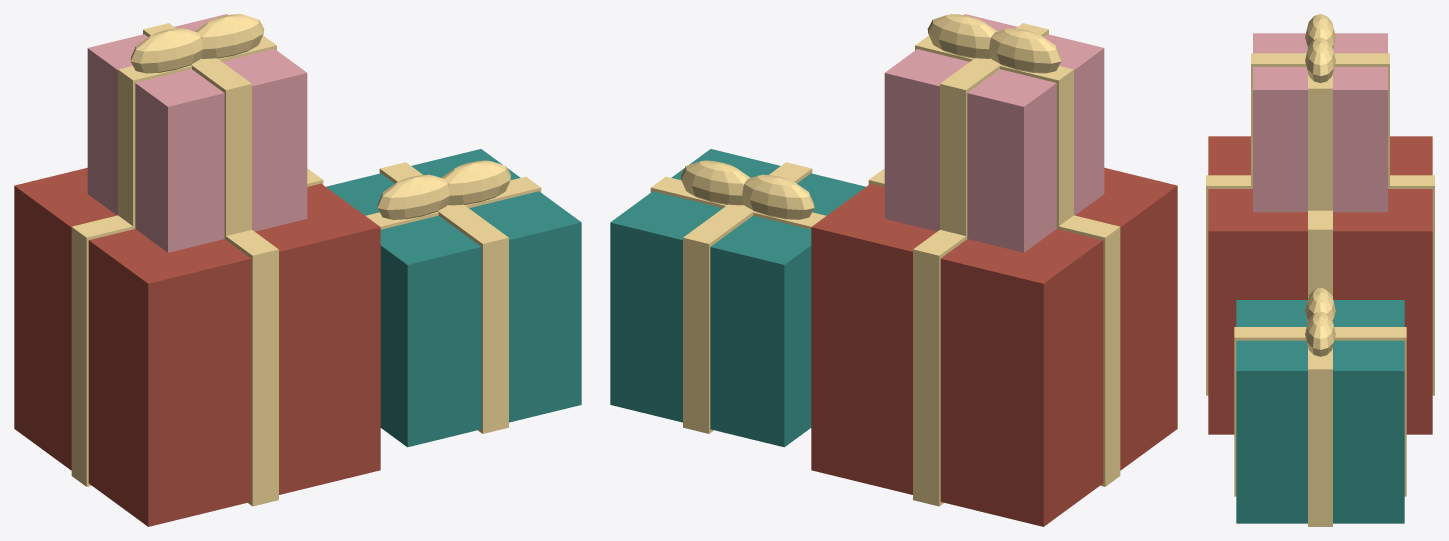
Rendered from gift_box_stack.glb.
3 renders of one model, left to right at view 1: azimuth 30°, elevation 25°; view 2: azimuth 150°, elevation 25°; view 3: azimuth 270°, elevation 25°, orthographic. The views are drawn at different scales.
Parts seen in each view (by area): view 1: gift, gift.001, gift.002, ribbon_y, ribbon_y.001, ribbon_x, ribbon_y.002, ribbon_x.002, bow.002, bow.004, bow.005, bow.003 (+1 smaller); view 2: gift, gift.001, gift.002, ribbon_y, ribbon_y.001, ribbon_x, ribbon_y.002, ribbon_x.002, bow.002, bow.004, bow.005, bow.003 (+1 smaller); view 3: gift, gift.001, gift.002, ribbon_x.001, ribbon_x.002, ribbon_y.001, ribbon_y, ribbon_x, ribbon_y.002, bow.003, bow.005, bow.002 (+1 smaller).
Boxes of the visible parts, x1,y1,x2,y2 form: gift: [14, 167, 380, 526]; gift.001: [326, 149, 581, 447]; gift.002: [87, 14, 307, 252]; ribbon_y: [226, 230, 278, 506]; ribbon_y.001: [379, 162, 508, 433]; ribbon_x: [71, 169, 323, 486]; ribbon_y.002: [143, 23, 251, 239]; ribbon_x.002: [118, 35, 276, 228]; bow.002: [377, 174, 449, 219]; bow.004: [130, 28, 202, 73]; bow.005: [194, 14, 264, 58]; bow.003: [441, 160, 510, 205]; gift: [811, 167, 1177, 526]; gift.001: [610, 149, 865, 447]; gift.002: [884, 14, 1104, 252]; ribbon_y: [913, 230, 965, 506]; ribbon_y.001: [683, 162, 812, 433]; ribbon_x: [868, 169, 1120, 486]; ribbon_y.002: [940, 23, 1048, 239]; ribbon_x.002: [915, 35, 1073, 229]; bow.002: [742, 174, 814, 219]; bow.004: [989, 28, 1061, 73]; bow.005: [927, 14, 997, 58]; bow.003: [681, 160, 750, 205]; gift: [1208, 136, 1432, 434]; gift.001: [1236, 300, 1404, 523]; gift.002: [1253, 33, 1387, 212]; ribbon_x.001: [1308, 296, 1332, 526]; ribbon_x.002: [1308, 74, 1332, 210]; ribbon_y.001: [1234, 327, 1406, 496]; ribbon_y: [1206, 175, 1434, 395]; ribbon_x: [1308, 210, 1332, 296]; ribbon_y.002: [1251, 53, 1389, 185]; bow.003: [1305, 311, 1335, 356]; bow.005: [1305, 37, 1335, 83]; bow.002: [1305, 287, 1335, 321].
Size of the model in its own units: 1.56 by 1.41 by 0.815.
